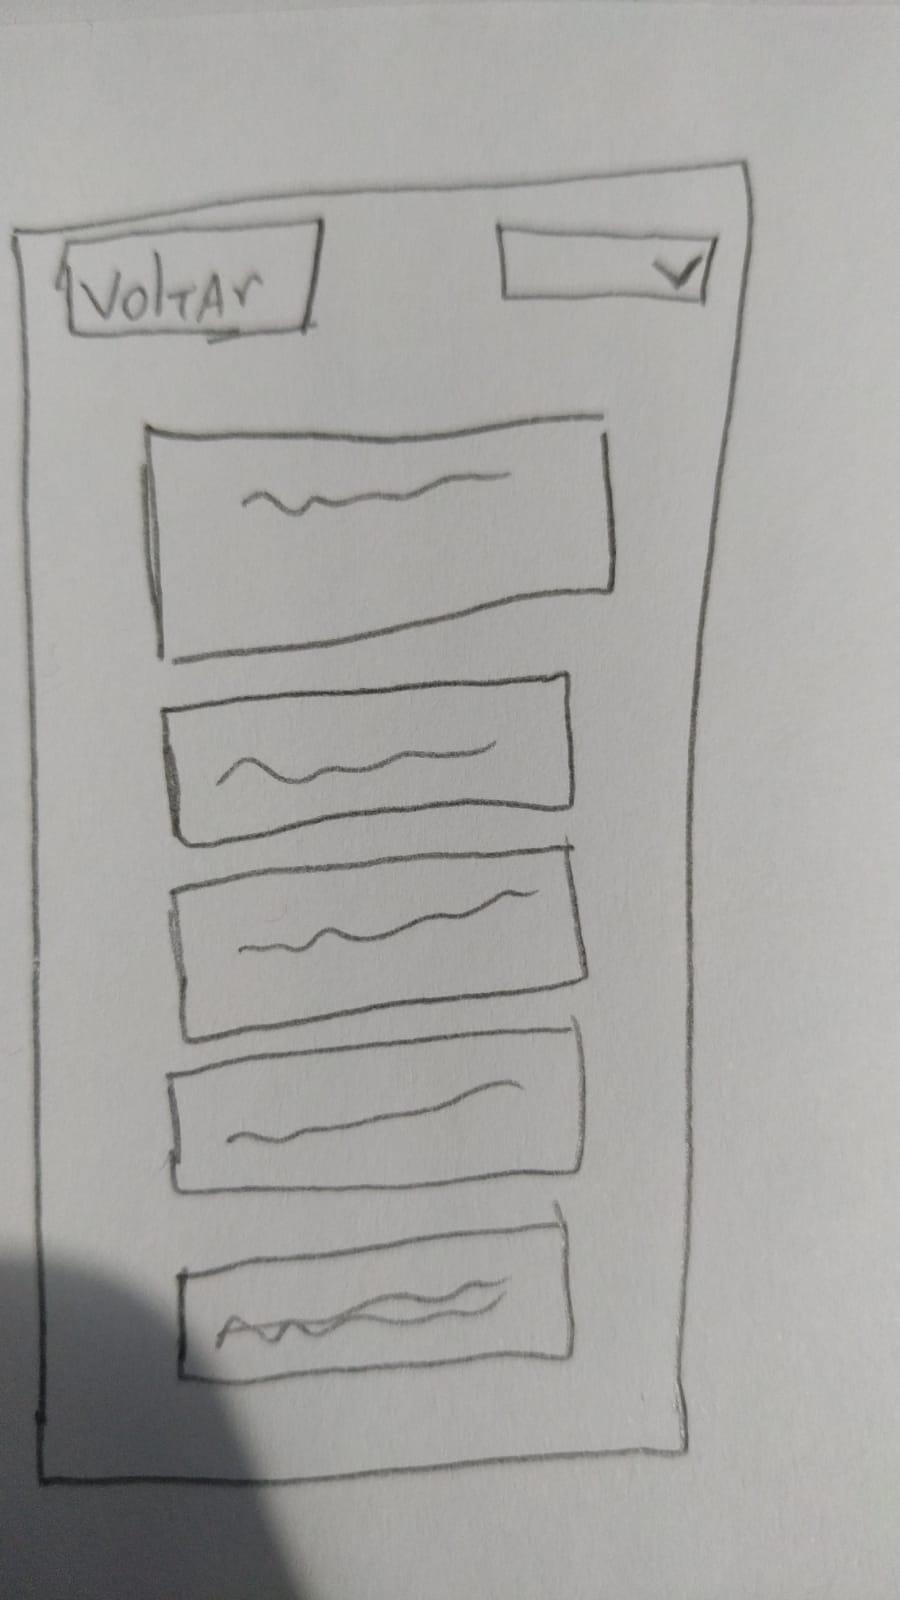Button: (141, 410, 620, 666), (173, 844, 588, 1044), (168, 1016, 588, 1198), (160, 670, 577, 848), (176, 1220, 576, 1386), (53, 216, 325, 343)
ListPicker: (497, 222, 720, 303)
Screen: (11, 157, 755, 1487)
